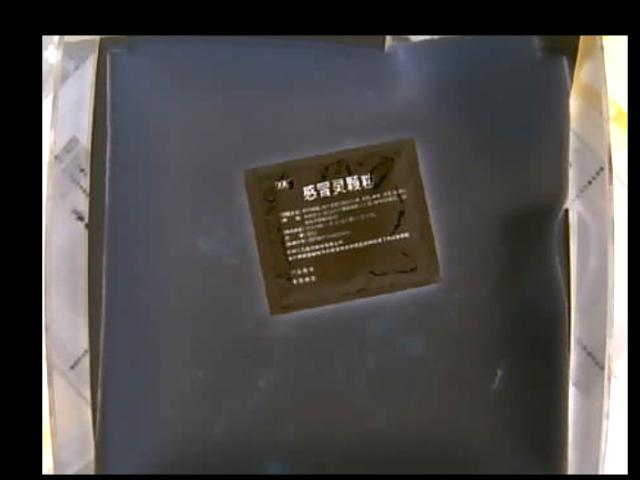Medicine: (237, 140, 442, 321)
